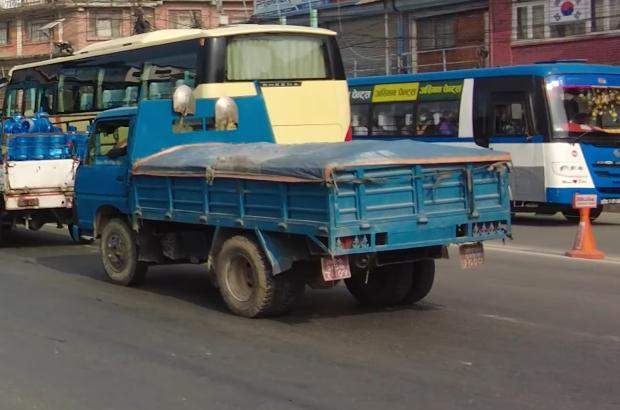bus: (0, 14, 358, 154), (345, 60, 620, 220)
mini_truck: (65, 79, 519, 321)
transport_vehicle: (0, 106, 108, 239)
